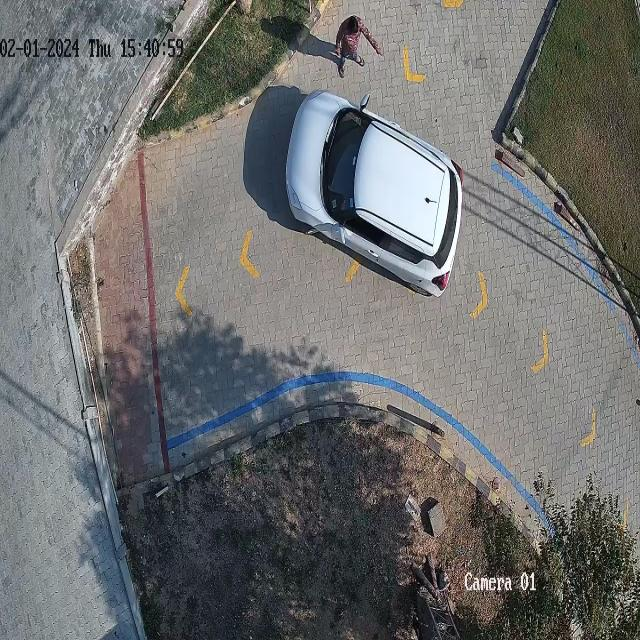car: (285, 91, 462, 294)
